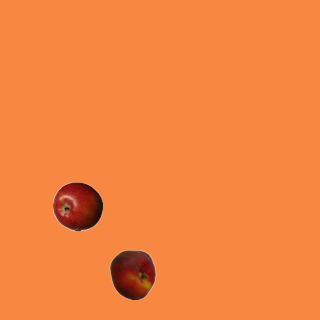Apple Braeburn: (52, 181, 102, 231)
Nectarine Flat: (107, 249, 157, 299)
